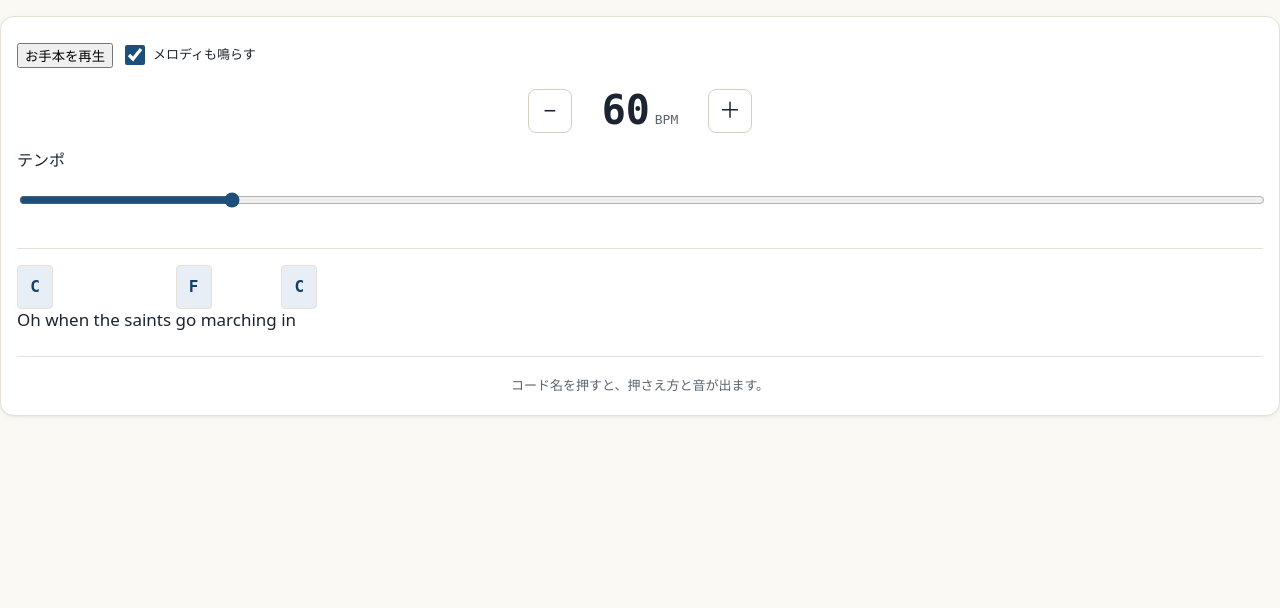
Scenario: SongSheet: お手本の再生 › 再生を押すと始まり、ボタンが「止める」に変わる
Click the button "お手本を再生". click: click(65, 55)
box: [17,42,113,68]
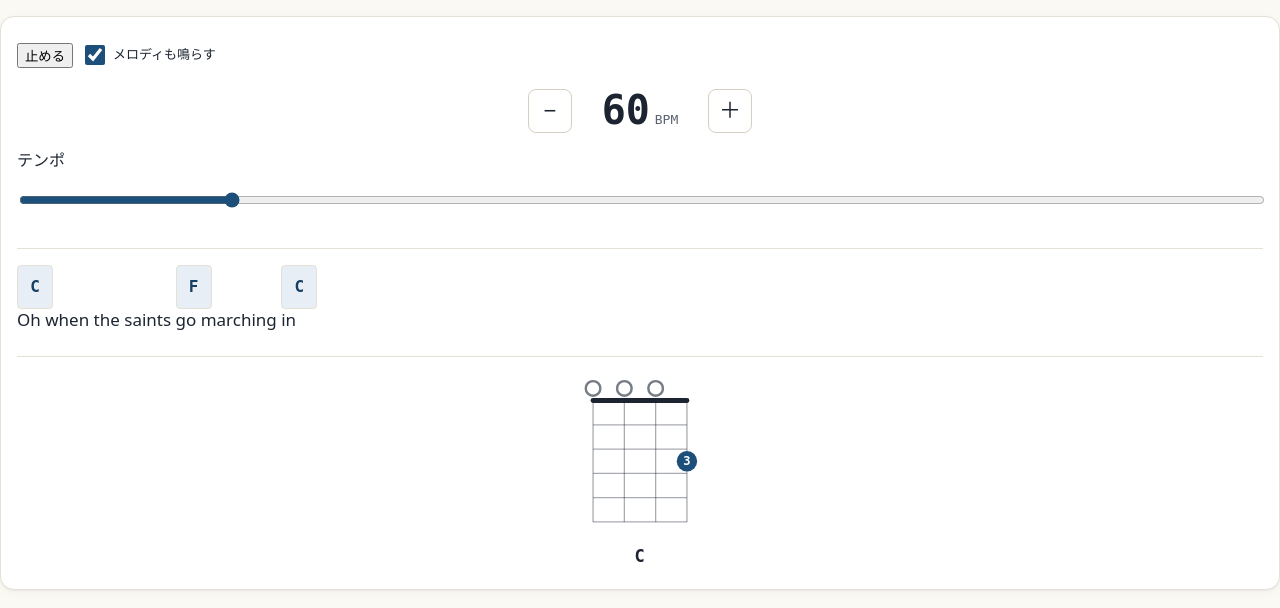
Result: the button "止める" is shown at [17,42,73,68]
